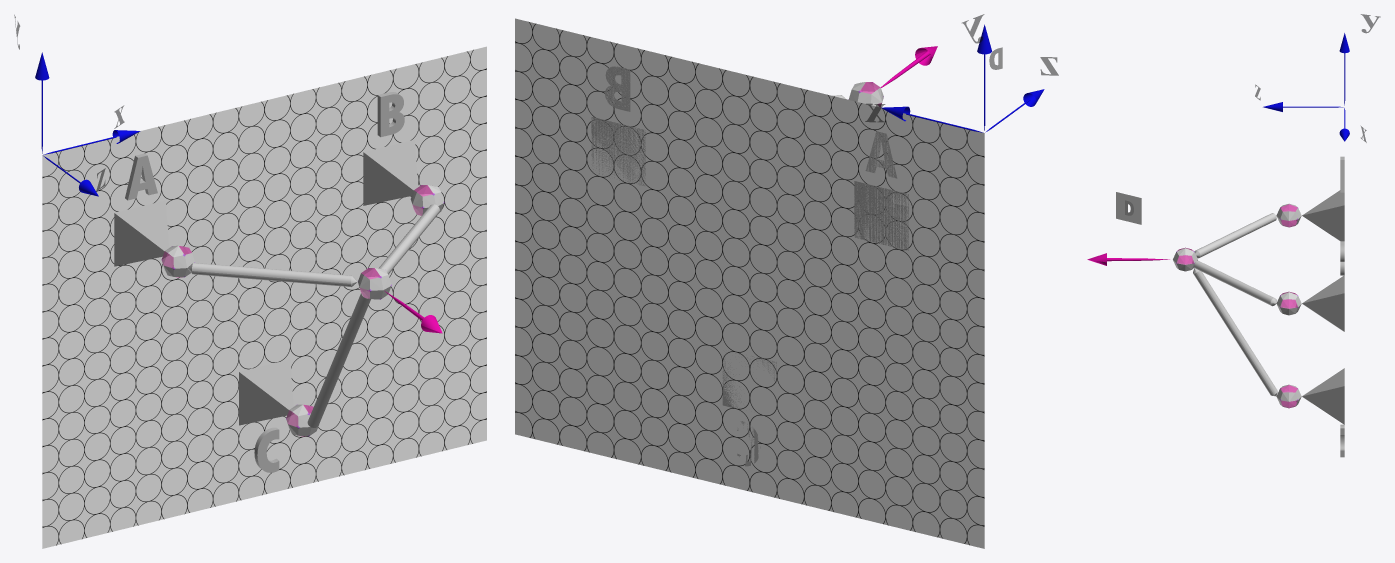
Rendered from Simple_3D_Truss.glb.
The picture shows the model from 3 angles, left to right: view 1: azimuth 30°, elevation 25°; view 2: azimuth 150°, elevation 25°; view 3: azimuth 270°, elevation 25°; orthographic projection. The views are drawn at different scales.
Parts seen in each view (by area): view 1: Geom3D (×8), Geom3D_B#1, Geom3D_A#1, Geom3D_C#1; view 2: Geom3D (×4), Geom3D_B#1, Geom3D_A#1; view 3: Geom3D (×6), Geom3D_.
Boxes of the visible parts, x1,y1,x2,y2 form: Geom3D (×8): [42, 46, 486, 548]; Geom3D_B#1: [377, 92, 404, 137]; Geom3D_A#1: [125, 153, 157, 200]; Geom3D_C#1: [254, 427, 279, 472]; Geom3D (×4): [515, 18, 984, 548]; Geom3D_B#1: [605, 66, 630, 111]; Geom3D_A#1: [865, 131, 897, 178]; Geom3D (×6): [1193, 190, 1344, 424]; Geom3D_: [1116, 192, 1141, 224].
Size of the model in its own units: 0.2249 by 0.2442 by 0.1738.
9 materials, 1 textured.
